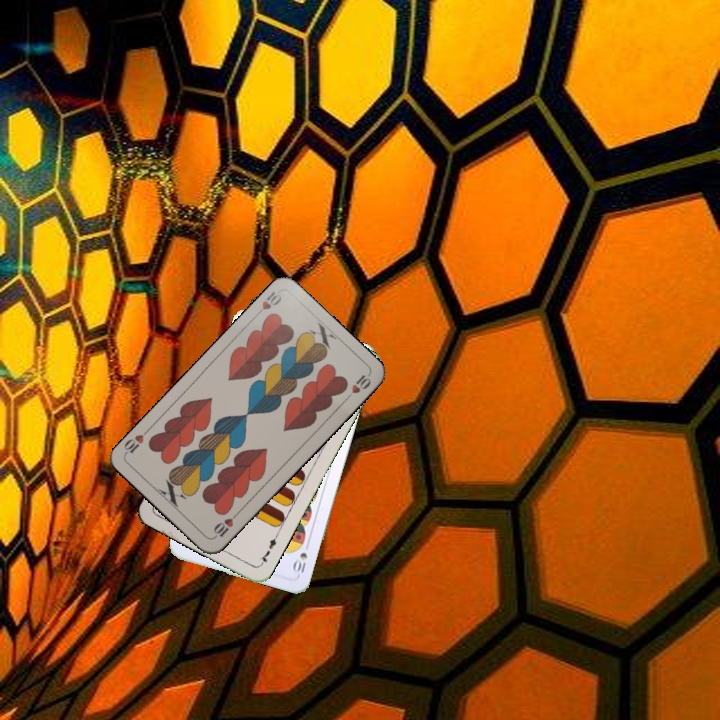E7: (256, 531, 281, 568)
H10: (251, 287, 284, 320), (210, 508, 241, 541)
S10: (289, 538, 312, 575)
